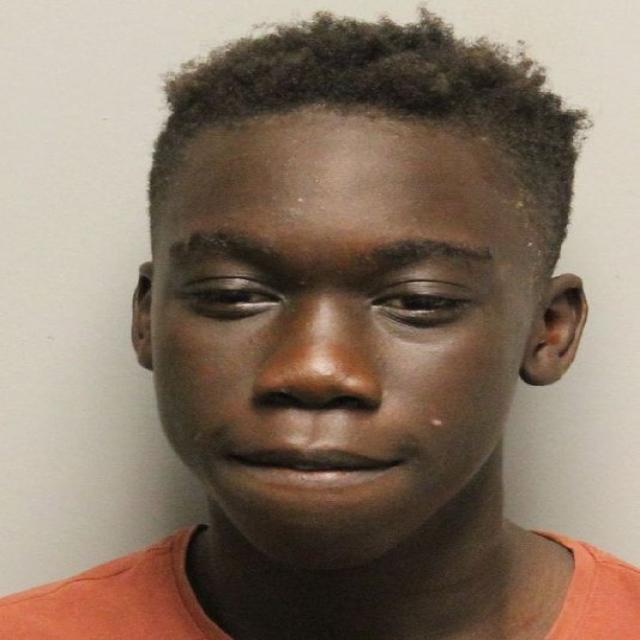mobile_phonerotation: (1, 6, 638, 638)
